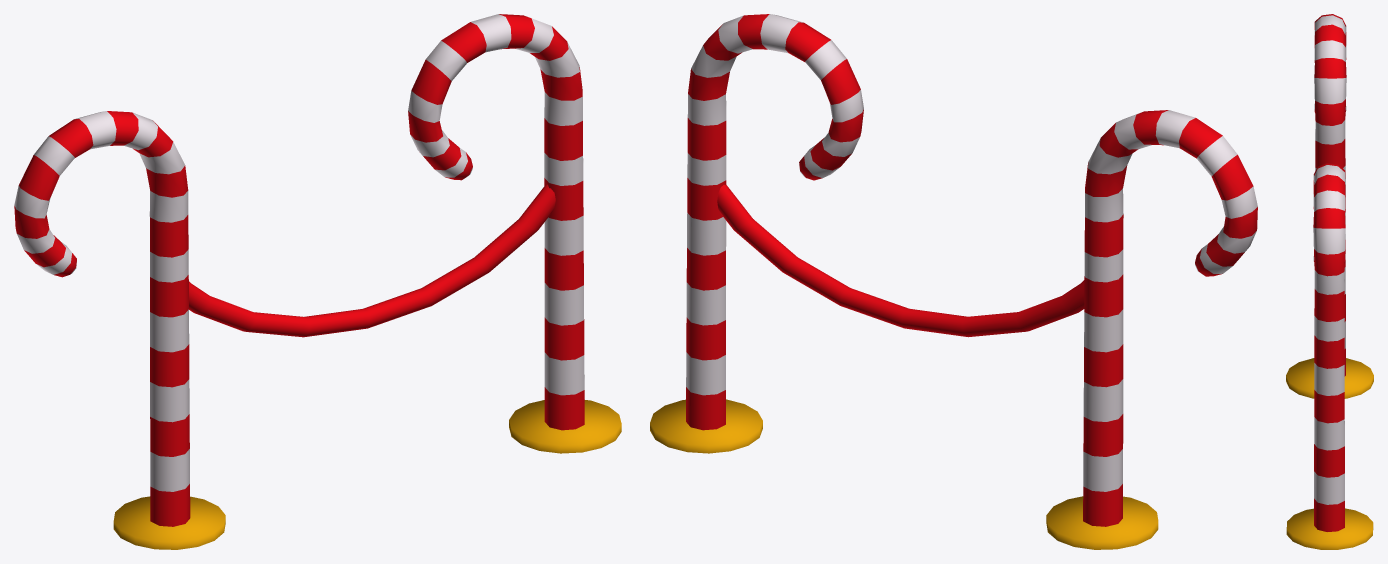
The model's file is SEPARADOR 2.fbx.
3 views of the same model, side by side, from view 1: azimuth 30°, elevation 25°; view 2: azimuth 150°, elevation 25°; view 3: azimuth 270°, elevation 25° (orthographic). The views are drawn at different scales.
Parts seen in each view (by area): view 1: Separador; view 2: Separador; view 3: Separador.
Part boxes in pixels (x1,y1,x2,y2): Separador: (14, 14, 621, 549); Separador: (650, 14, 1257, 549); Separador: (1286, 14, 1373, 549).
Bounding box in the file's own units: 1585 × 1092 × 260.
